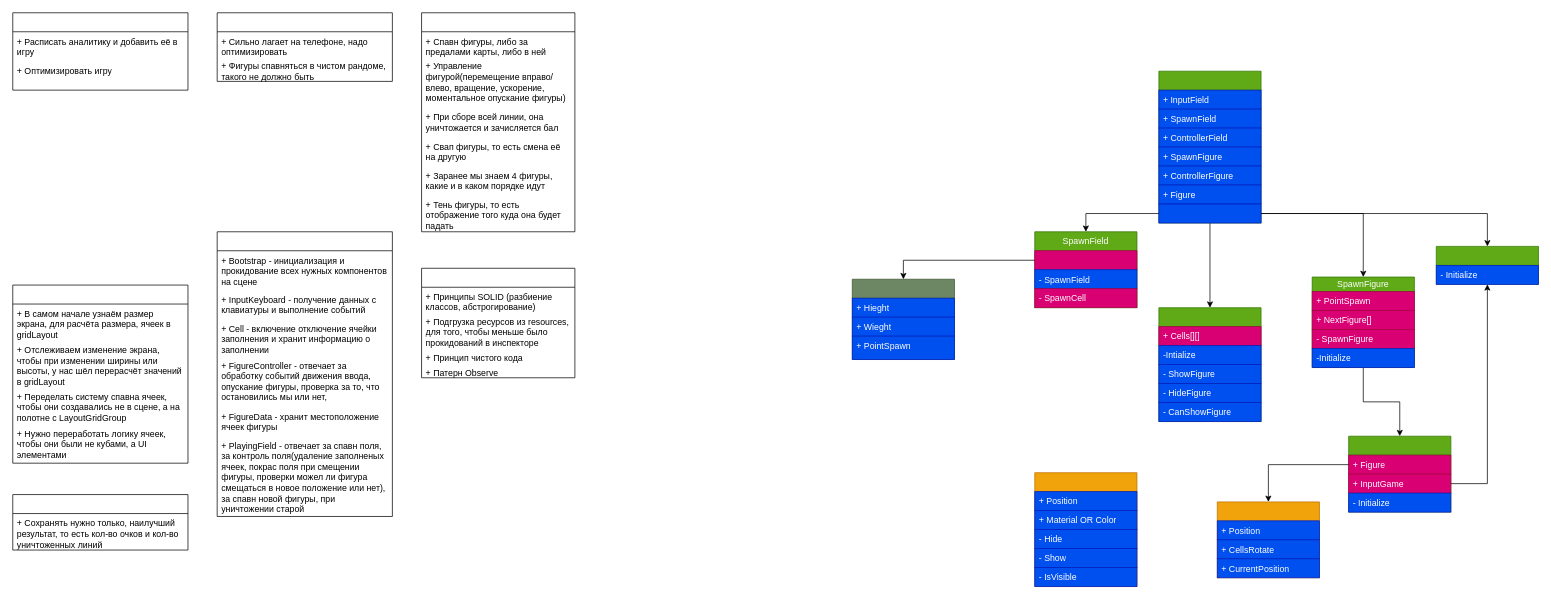
The diagram is 1551 pixels wide and 602 high, and some of its shapes have lost their labels. Here are the shapes that lost their labels. From the top down, the box of each, then its label:
(12, 12, 188, 90): Что нужно реализовать
(216, 12, 392, 81): Основные проблемы
(421, 12, 575, 232): Основные механики тетриса
(1158, 70, 1261, 223): Bootstrap
(1158, 203, 1261, 223): - Initialize()
(1034, 250, 1137, 270): + FieldConfig
(1436, 246, 1538, 284): InputGame
(421, 268, 575, 378): что я хочу отточить на этом проекте
(852, 278, 954, 360): FieldConfig
(12, 284, 188, 463): Чтобы сделать адаптивный UI
(216, 231, 392, 516): Какой класс за что отвечает
(1158, 307, 1261, 422): ControllerField
(1348, 435, 1451, 512): ControllerFigure
(12, 494, 188, 550): Добавить сохранения и лидерборды для YG
(1034, 472, 1137, 587): Cell
(1217, 501, 1319, 578): Figure
